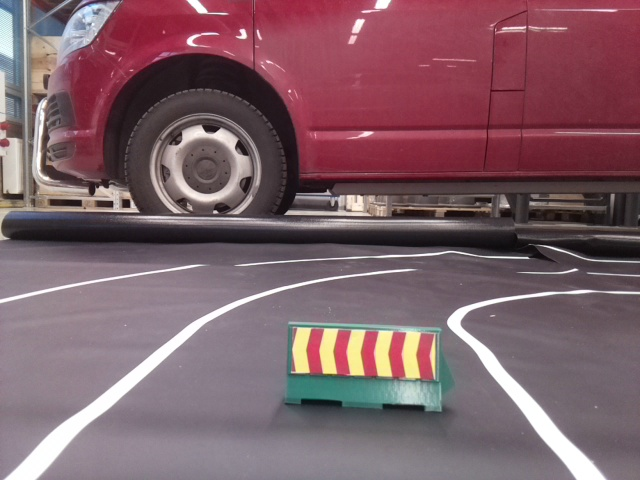ClosedRoadStand: (289, 320, 445, 413)
